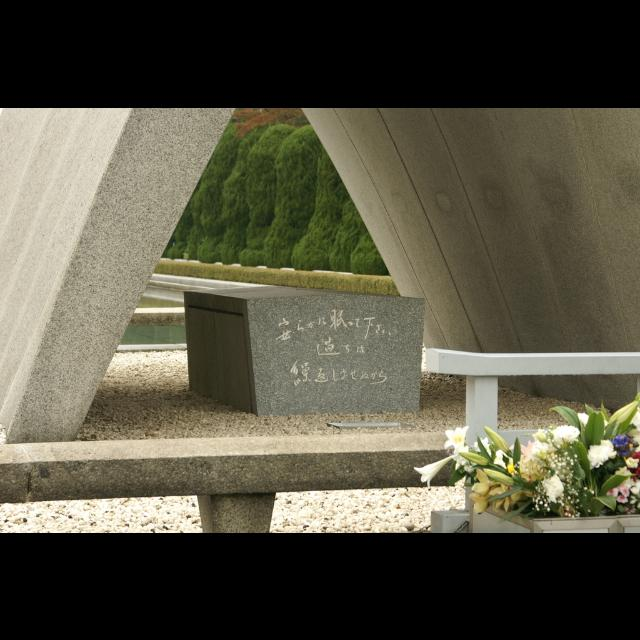Flower: (468, 412, 640, 518), (414, 456, 454, 492), (441, 426, 471, 466)
